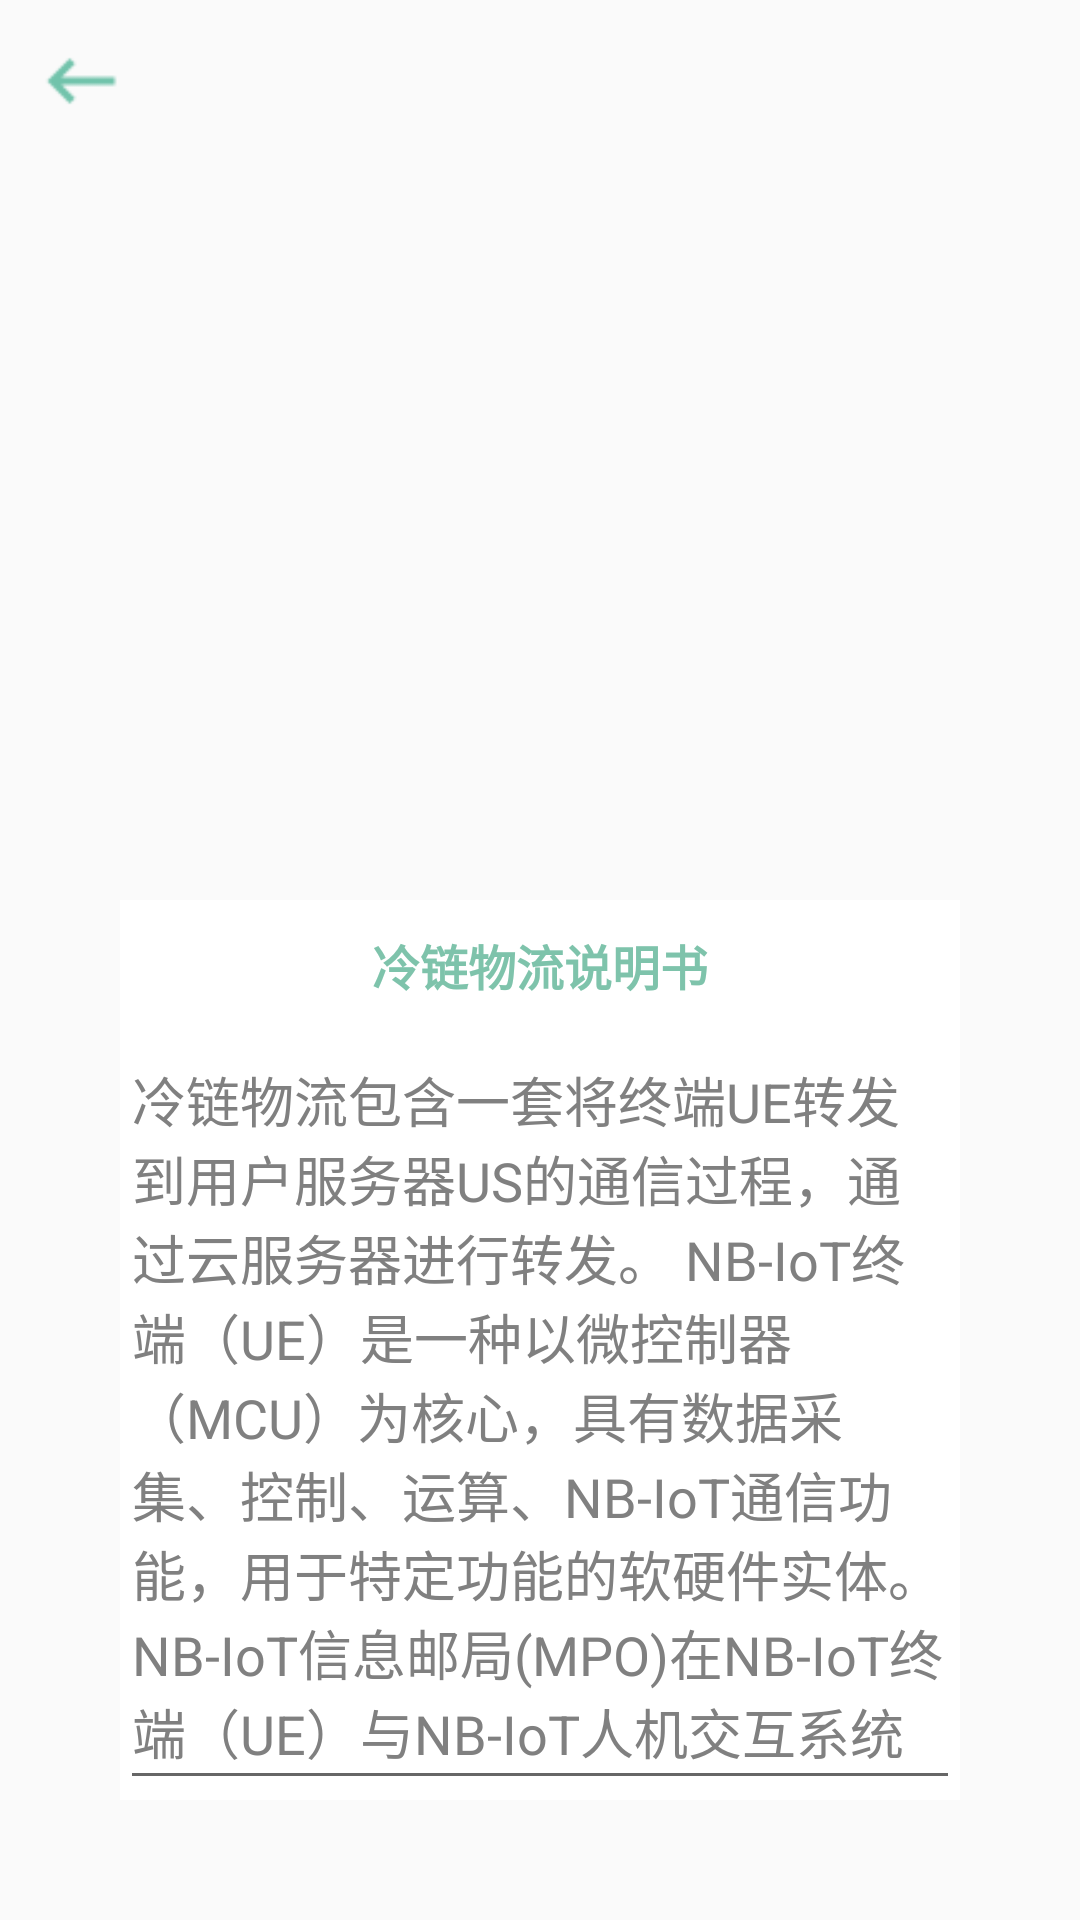

Screen size 1080px x 1920px. Icon name, then its center in pixels as (x,y):
back: (81,81)
